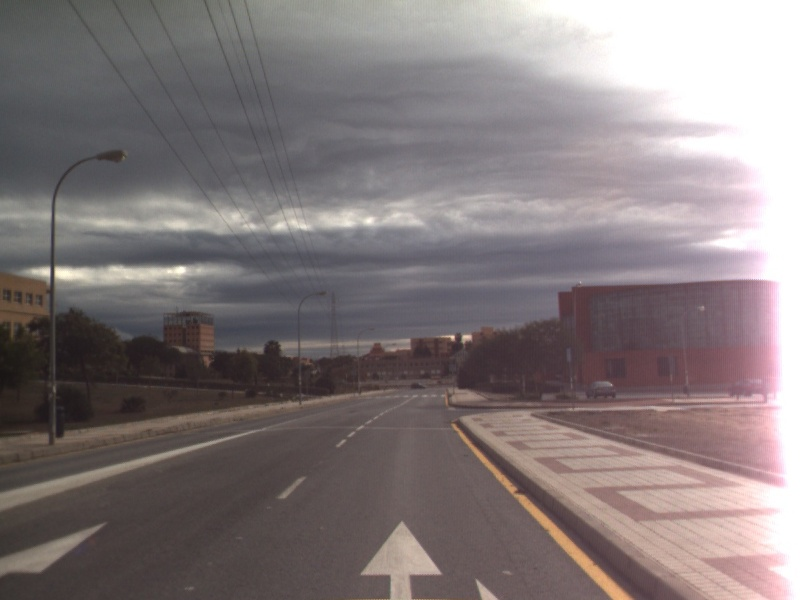STRAIGHT: (356, 517, 446, 600)
